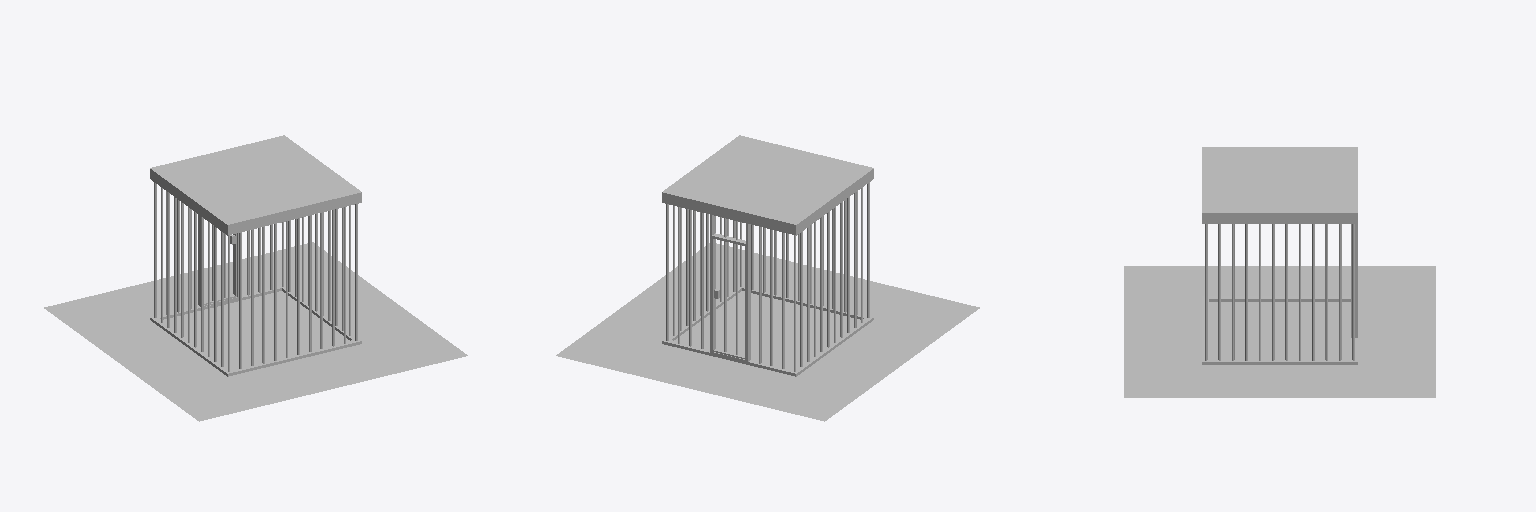
The model's file is cage.obj.
The picture shows the model from 3 angles: view 1: azimuth 30°, elevation 25°; view 2: azimuth 150°, elevation 25°; view 3: azimuth 270°, elevation 25°; orthographic projection.
Visible parts, largest first — view 1: Plane_Plane.002, CAGE_BASE_Cube.001, CAGE_BASE.001_Cube.002; view 2: Plane_Plane.002, CAGE_BASE_Cube.001, CAGE_BASE.001_Cube.002; view 3: Plane_Plane.002, CAGE_BASE_Cube.001, CAGE_BASE.001_Cube.002.
Part boxes in pixels (bbox=[...]): Plane_Plane.002: bbox=[44, 242, 467, 421]; CAGE_BASE_Cube.001: bbox=[150, 135, 361, 376]; CAGE_BASE.001_Cube.002: bbox=[154, 182, 357, 371]; Plane_Plane.002: bbox=[556, 243, 979, 421]; CAGE_BASE_Cube.001: bbox=[662, 135, 873, 376]; CAGE_BASE.001_Cube.002: bbox=[666, 182, 869, 371]; Plane_Plane.002: bbox=[1124, 266, 1435, 397]; CAGE_BASE_Cube.001: bbox=[1202, 147, 1357, 364]; CAGE_BASE.001_Cube.002: bbox=[1205, 224, 1354, 360].
Bounding box in the file's own units: 4 × 2.15 × 4.